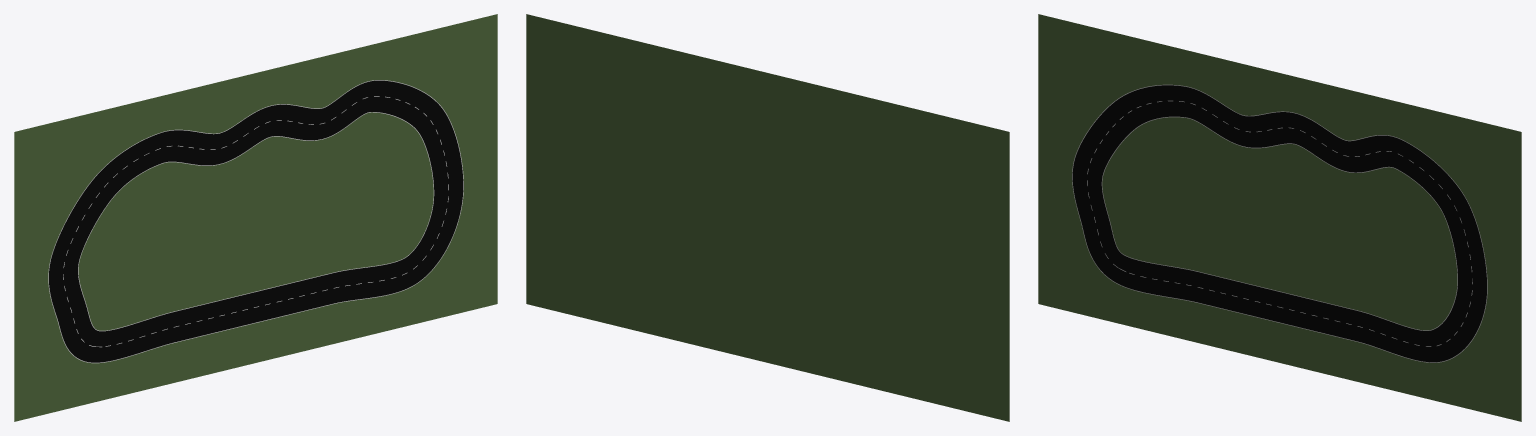
The model's file is complex_b.obj.
3 renders of one model, left to right at view 1: azimuth 30°, elevation 25°; view 2: azimuth 150°, elevation 25°; view 3: azimuth 330°, elevation 25°, orthographic.
Parts seen in each view (by area): view 1: grass, asphalt, line; view 2: grass; view 3: grass, asphalt, line.
Part boxes in pixels (left/top/right/bottom): grass: left=14, top=14, right=497, bottom=421; asphalt: left=49, top=80, right=463, bottom=362; line: left=48, top=80, right=463, bottom=363; grass: left=526, top=14, right=1009, bottom=421; grass: left=1038, top=14, right=1521, bottom=421; asphalt: left=1072, top=85, right=1486, bottom=362; line: left=1072, top=84, right=1487, bottom=362.
Size of the model in its own units: 8.47 by 4.85 by 0.003.
